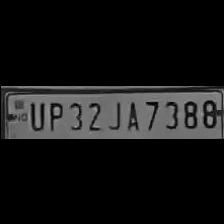2: (84, 98, 103, 132)
3: (160, 96, 180, 130), (64, 99, 84, 131)
7: (140, 97, 160, 131)
8: (199, 96, 221, 128), (180, 96, 198, 128)
A: (122, 98, 140, 132)
J: (104, 97, 124, 130)
P: (43, 98, 62, 132)
U: (26, 99, 44, 131)
